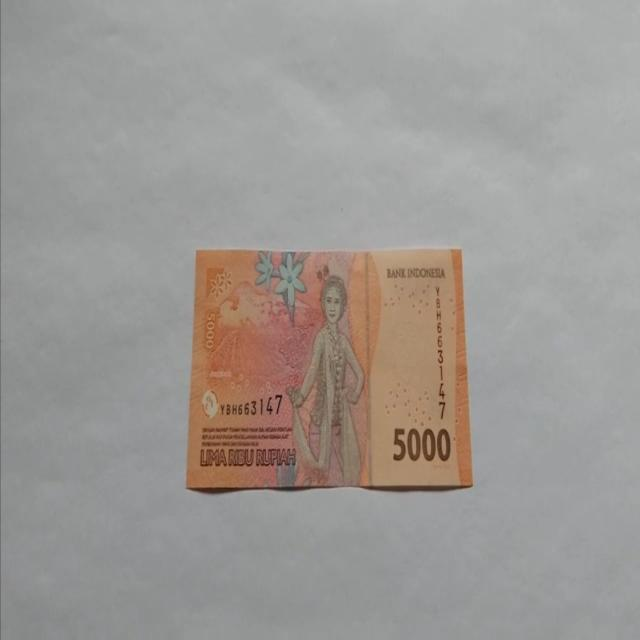lima ribu rupiah: (185, 245, 473, 492), (284, 274, 366, 488)
